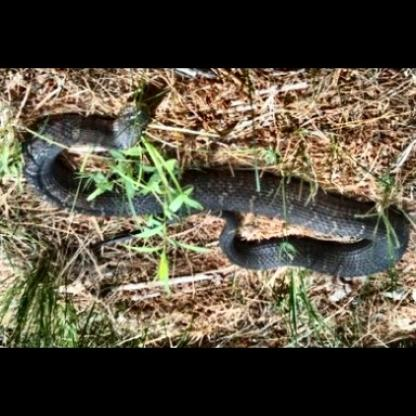Snake: (4, 73, 416, 295)
